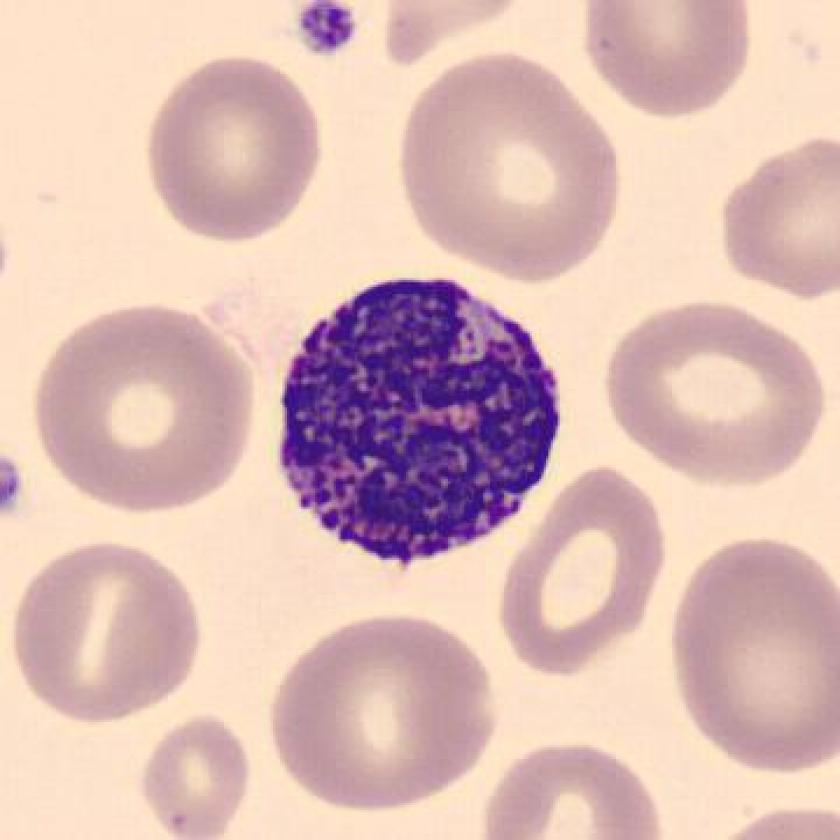basophil: (260, 253, 587, 584)
